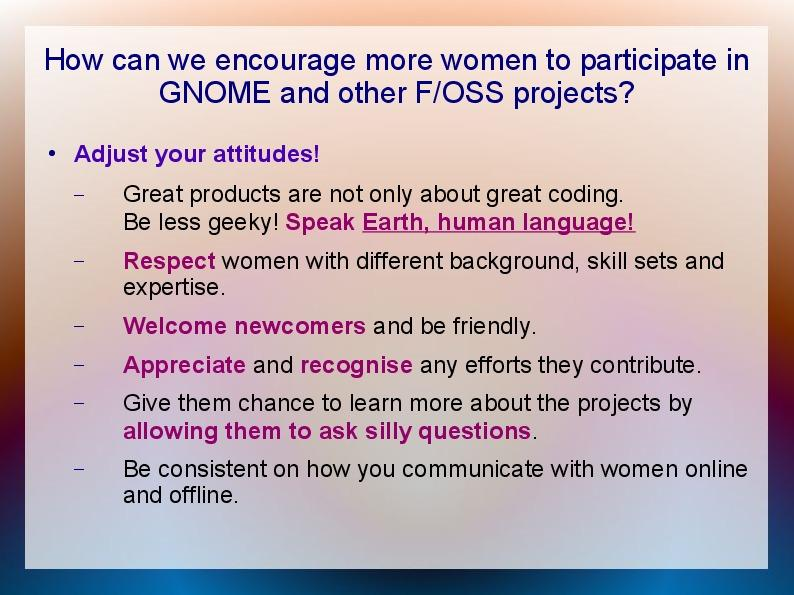paragraph: (62, 177, 757, 526)
title: (37, 33, 761, 128), (45, 130, 333, 173)
